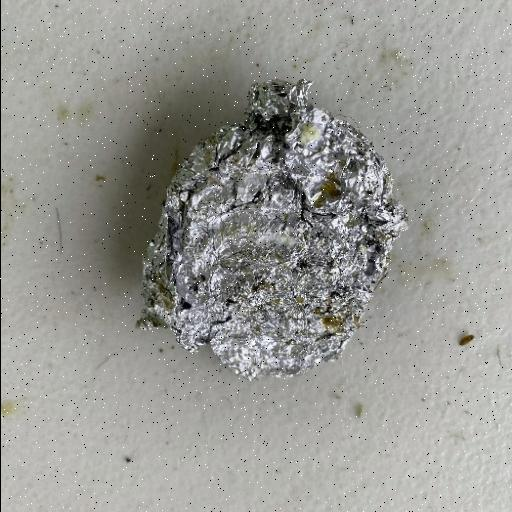Metal: (135, 76, 409, 382)
